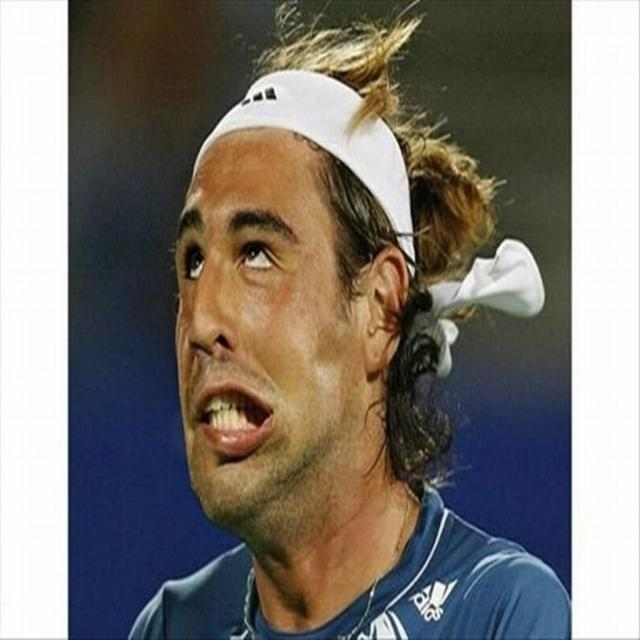nomask: (174, 128, 364, 522)
